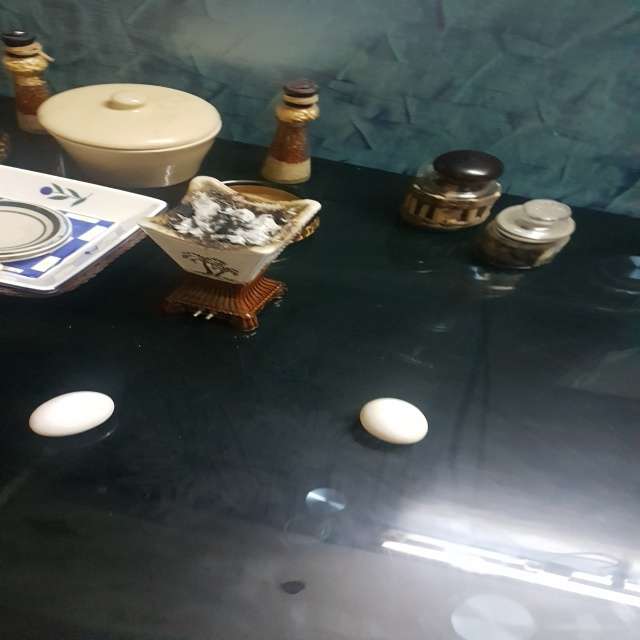eggs: (26, 382, 119, 440), (350, 391, 436, 452)
